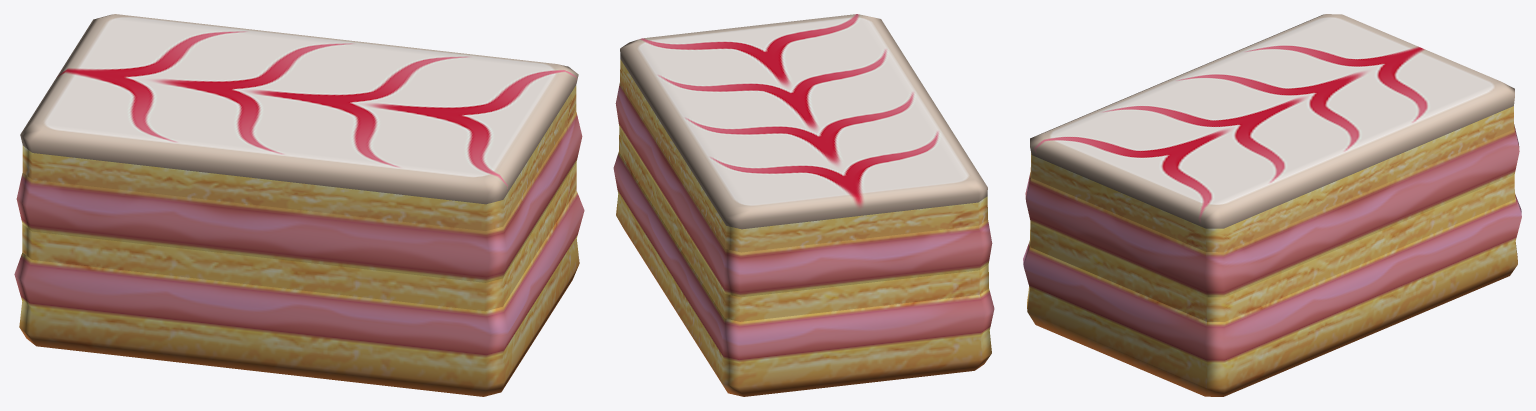
File: 009-Napoleons_04.FBX
The picture shows the model from 3 angles, left to right: view 1: azimuth 30°, elevation 25°; view 2: azimuth 150°, elevation 25°; view 3: azimuth 270°, elevation 25°; orthographic projection. The views are drawn at different scales.
Visible parts, largest first — view 1: 009-Napoleons_04; view 2: 009-Napoleons_04; view 3: 009-Napoleons_04.
Boxes of the visible parts, box(x1,y1,x2,y2) form: 009-Napoleons_04: box(14, 14, 584, 396); 009-Napoleons_04: box(613, 14, 994, 396); 009-Napoleons_04: box(1023, 14, 1521, 396).
Size of the model in its own units: 17.75 by 7.29 by 17.75.
